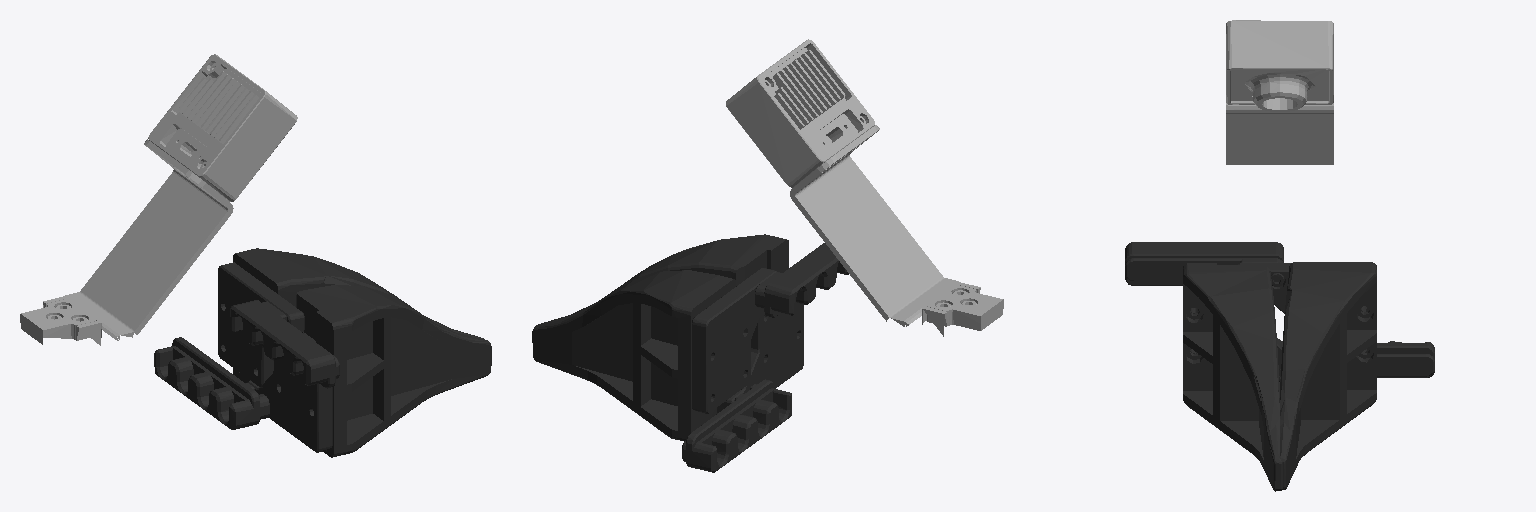
robot.urdf — anvil_gripper_right:
<?xml version="1.0"?>
<!-- Anvil's Customizable Gripper on the right arm (fine tips), in our end_link convention: end_link at the fingertips, midway between the jaws, x out of the fingertips, z toward the wrist camera; finger_left / finger_right prismatic along end_link y. The hand's and fingers' visual meshes, masses and inertias are Anvil's (the gripper's CAD is public); the collision geometry is the gripper type's boxes (robots/grippers.py anvil). build_urdf.py mounts it on joint 7 (README.md). Mesh paths relative to this file. -->
<robot name="anvil_gripper_right">
  <link name="end_link">
    <inertial>
      <origin xyz="-0.0725 -0.002 0" rpy="0 0 0" />
      <mass value="0.7" />
      <inertia ixx="0.0002521" ixy="-1e-06" ixz="1e-06" iyy="1.763e-05" iyz="-1e-06" izz="0.0002473" />
    </inertial>
    <visual name="right_hand_anodized_black_visual">
      <origin xyz="-0.1025 0 0" rpy="-3.14159265 -1.57079633 0" />
      <geometry>
        <mesh filename="meshes/hand_anodized_black.obj" />
      </geometry>
      <material name="anodized_black">
        <color rgba="0.11 0.11 0.115 1" />
      </material>
    </visual>
    <visual name="right_hand_camera_gray_visual">
      <origin xyz="-0.1025 0 0" rpy="-3.14159265 -1.57079633 0" />
      <geometry>
        <mesh filename="meshes/hand_camera_gray.stl" />
      </geometry>
      <material name="gray_175">
        <color rgba="0.686275 0.686275 0.686275 1" />
      </material>
    </visual>
    <collision name="end_link_gripper_housing">
      <origin xyz="-0.13085 -0.0011 0.0002" rpy="0 0 0" />
      <geometry>
        <box size="0.0417 0.057 0.057" />
      </geometry>
    </collision>
    <collision name="end_link_gripper_guide">
      <origin xyz="-0.09755 -0.0011 0.0002" rpy="0 0 0" />
      <geometry>
        <box size="0.0249 0.108 0.057" />
      </geometry>
    </collision>
    <collision name="end_link_wrist_camera_arm">
      <origin xyz="-0.1405 0 0.0455" rpy="0 0 0" />
      <geometry>
        <box size="0.067 0.038 0.041" />
      </geometry>
    </collision>
    <collision name="end_link_wrist_camera">
      <origin xyz="-0.1025 0 0.0865" rpy="0 0 0" />
      <geometry>
        <box size="0.041 0.038 0.041" />
      </geometry>
    </collision>
  </link>
  <link name="finger_left_link">
    <inertial>
      <origin xyz="-0.0655315 0.02302 0.0064528" rpy="0 0 0" />
      <mass value="0.03602545343277134" />
      <inertia ixx="9.927e-06" ixy="3.509e-06" ixz="2.792e-06" iyy="1.976e-05" iyz="-7.351e-07" izz="1.444e-05" />
    </inertial>
    <visual name="right_right_finger_dark_visual">
      <origin xyz="-0.0875 0.006 0" rpy="-3.14159265 -1.57079633 0" />
      <geometry>
        <mesh filename="meshes/right_finger_dark.stl" />
      </geometry>
      <material name="dark_60">
        <color rgba="0.235294 0.235294 0.235294 1" />
      </material>
    </visual>
    <visual name="right_right_finger_fine_tip_dark_visual">
      <origin xyz="-0.0875 0.006 0" rpy="-3.14159265 -1.57079633 0" />
      <geometry>
        <mesh filename="meshes/right_finger_fine_tip_dark.stl" />
      </geometry>
      <material name="dark_60">
        <color rgba="0.235294 0.235294 0.235294 1" />
      </material>
    </visual>
    <collision name="finger_left_link_jaw_root">
      <origin xyz="-0.0885 0.01625 0.00495" rpy="0 0 0" />
      <geometry>
        <box size="0.0202 0.0325 0.0355" />
      </geometry>
    </collision>
    <collision name="finger_left_link_jaw">
      <origin xyz="-0.02 0.0045 -0.0055" rpy="0 0 0" />
      <geometry>
        <box size="0.04 0.009 0.0386" />
      </geometry>
    </collision>
    <collision name="finger_left_link_jaw_back">
      <origin xyz="-0.0592 0.01685 -0.0003" rpy="0 0 0" />
      <geometry>
        <box size="0.0384 0.0317 0.049" />
      </geometry>
    </collision>
  </link>
  <link name="finger_right_link">
    <inertial>
      <origin xyz="-0.0655315 -0.02302 0.0064528" rpy="0 0 0" />
      <mass value="0.03602545343277134" />
      <inertia ixx="9.827e-06" ixy="-3.51e-06" ixz="2.43e-06" iyy="1.966e-05" iyz="7.397e-07" izz="1.445e-05" />
    </inertial>
    <visual name="right_left_finger_dark_visual">
      <origin xyz="-0.0875 -0.006 0" rpy="-3.14159265 -1.57079633 0" />
      <geometry>
        <mesh filename="meshes/left_finger_dark.stl" />
      </geometry>
      <material name="dark_60">
        <color rgba="0.235294 0.235294 0.235294 1" />
      </material>
    </visual>
    <visual name="right_left_finger_fine_tip_dark_visual">
      <origin xyz="-0.0875 -0.006 0" rpy="-3.14159265 -1.57079633 0" />
      <geometry>
        <mesh filename="meshes/left_finger_fine_tip_dark.stl" />
      </geometry>
      <material name="dark_60">
        <color rgba="0.235294 0.235294 0.235294 1" />
      </material>
    </visual>
    <collision name="finger_right_link_jaw_root">
      <origin xyz="-0.0885 -0.01625 0.00495" rpy="0 0 0" />
      <geometry>
        <box size="0.0202 0.0325 0.0355" />
      </geometry>
    </collision>
    <collision name="finger_right_link_jaw">
      <origin xyz="-0.02 -0.0045 -0.0055" rpy="0 0 0" />
      <geometry>
        <box size="0.04 0.009 0.0386" />
      </geometry>
    </collision>
    <collision name="finger_right_link_jaw_back">
      <origin xyz="-0.0592 -0.01685 -0.0003" rpy="0 0 0" />
      <geometry>
        <box size="0.0384 0.0317 0.049" />
      </geometry>
    </collision>
  </link>
  <joint name="finger_left" type="prismatic">
    <origin xyz="0 0 0" rpy="0 0 0" />
    <parent link="end_link" />
    <child link="finger_left_link" />
    <axis xyz="0 1 0" />
    <limit lower="0" upper="0.05" effort="10" velocity="1" />
  </joint>
  <joint name="finger_right" type="prismatic">
    <origin xyz="0 0 0" rpy="0 0 0" />
    <parent link="end_link" />
    <child link="finger_right_link" />
    <axis xyz="0 1 0" />
    <limit lower="-0.05" upper="0" effort="10" velocity="1" />
    <mimic joint="finger_left" multiplier="-1" offset="0" />
  </joint>
</robot>

--- Facts derived from the render (not from the file) ---
The picture shows the robot from 3 angles, left to right: view 1: azimuth 30°, elevation 25°; view 2: azimuth 150°, elevation 25°; view 3: azimuth 270°, elevation 25°; orthographic projection.
Robot: anvil_gripper_right — 3 links, 2 joints (2 prismatic); root link end_link; default pose: all joints at 0.
Links seen in each view (by area): view 1: finger_right_link, end_link, finger_left_link; view 2: finger_left_link, end_link, finger_right_link; view 3: finger_left_link, finger_right_link, end_link.
Boxes of the visible links, x1=… form: finger_right_link: x1=154, y1=285, x2=491, y2=457; end_link: x1=20, y1=54, x2=297, y2=345; finger_left_link: x1=218, y1=248, x2=484, y2=388; finger_left_link: x1=532, y1=243, x2=848, y2=440; end_link: x1=726, y1=39, x2=1003, y2=336; finger_right_link: x1=535, y1=234, x2=803, y2=472; finger_left_link: x1=1125, y1=242, x2=1376, y2=489; finger_right_link: x1=1183, y1=263, x2=1434, y2=491; end_link: x1=1226, y1=20, x2=1333, y2=164.
Bounding box of the posed robot: 0.1737 × 0.1041 × 0.1312 m (x, y, z).
Meshes: 6 distinct files referenced, 5 mesh visuals loaded (5 binary STL); not drawn: 1 (reference not matched to a file when rendering).
